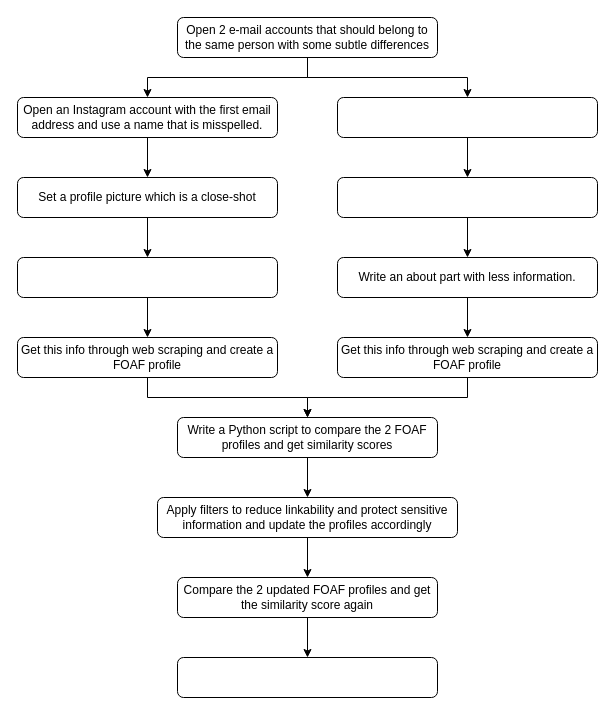
The diagram is 615 pixels wide and 715 high, and some of its shapes have lost their labels. The shapes that lost their labels are listed below. From the top down, each one's centre as x and y in pixels, then its label:
point 467,117: Open a Facebook account with the second email address and use the correct name.
point 467,197: Set a profile picture taken from a distance
point 147,277: Write a bio field with a lot of information
point 307,677: Evaluate the results and the effectiveness of the filtering mechanism
